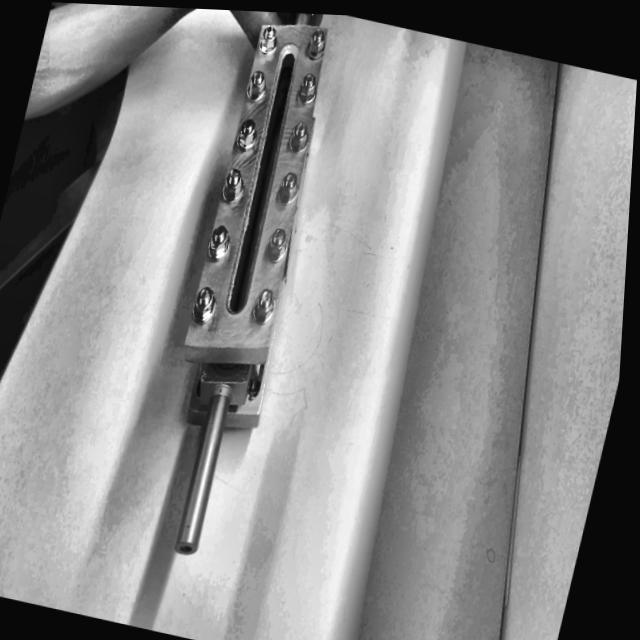ShuiWeiQi_12: (139, 6, 375, 491)
